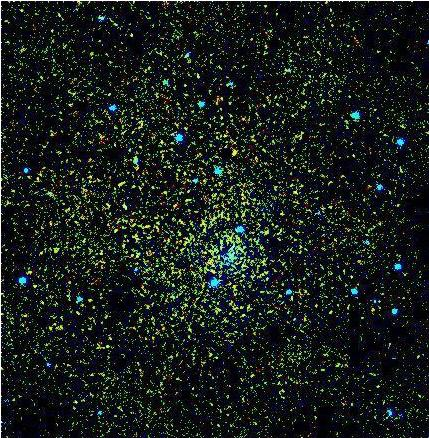star: (215, 136, 245, 166)
